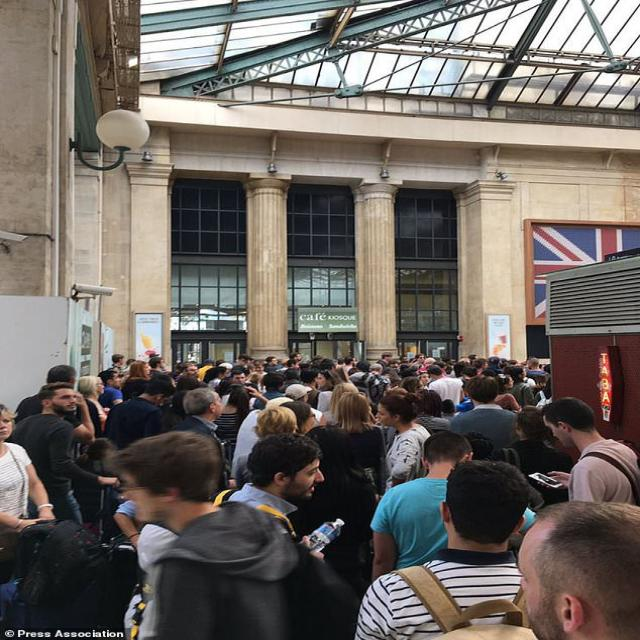body: (352, 457, 535, 639), (370, 430, 541, 585), (94, 348, 557, 399), (2, 380, 122, 528), (516, 500, 639, 640), (208, 431, 327, 567), (304, 391, 390, 578), (209, 431, 328, 565), (534, 394, 640, 506), (2, 400, 62, 524), (15, 363, 105, 438), (447, 374, 522, 461), (169, 386, 229, 493), (375, 391, 434, 491), (233, 404, 300, 492), (102, 378, 178, 451), (497, 405, 573, 472), (211, 384, 270, 462), (75, 374, 113, 439), (284, 383, 328, 430), (321, 380, 360, 428), (277, 399, 318, 438), (252, 372, 289, 412), (495, 390, 555, 412), (438, 390, 478, 420), (96, 368, 125, 408), (362, 390, 381, 418)
